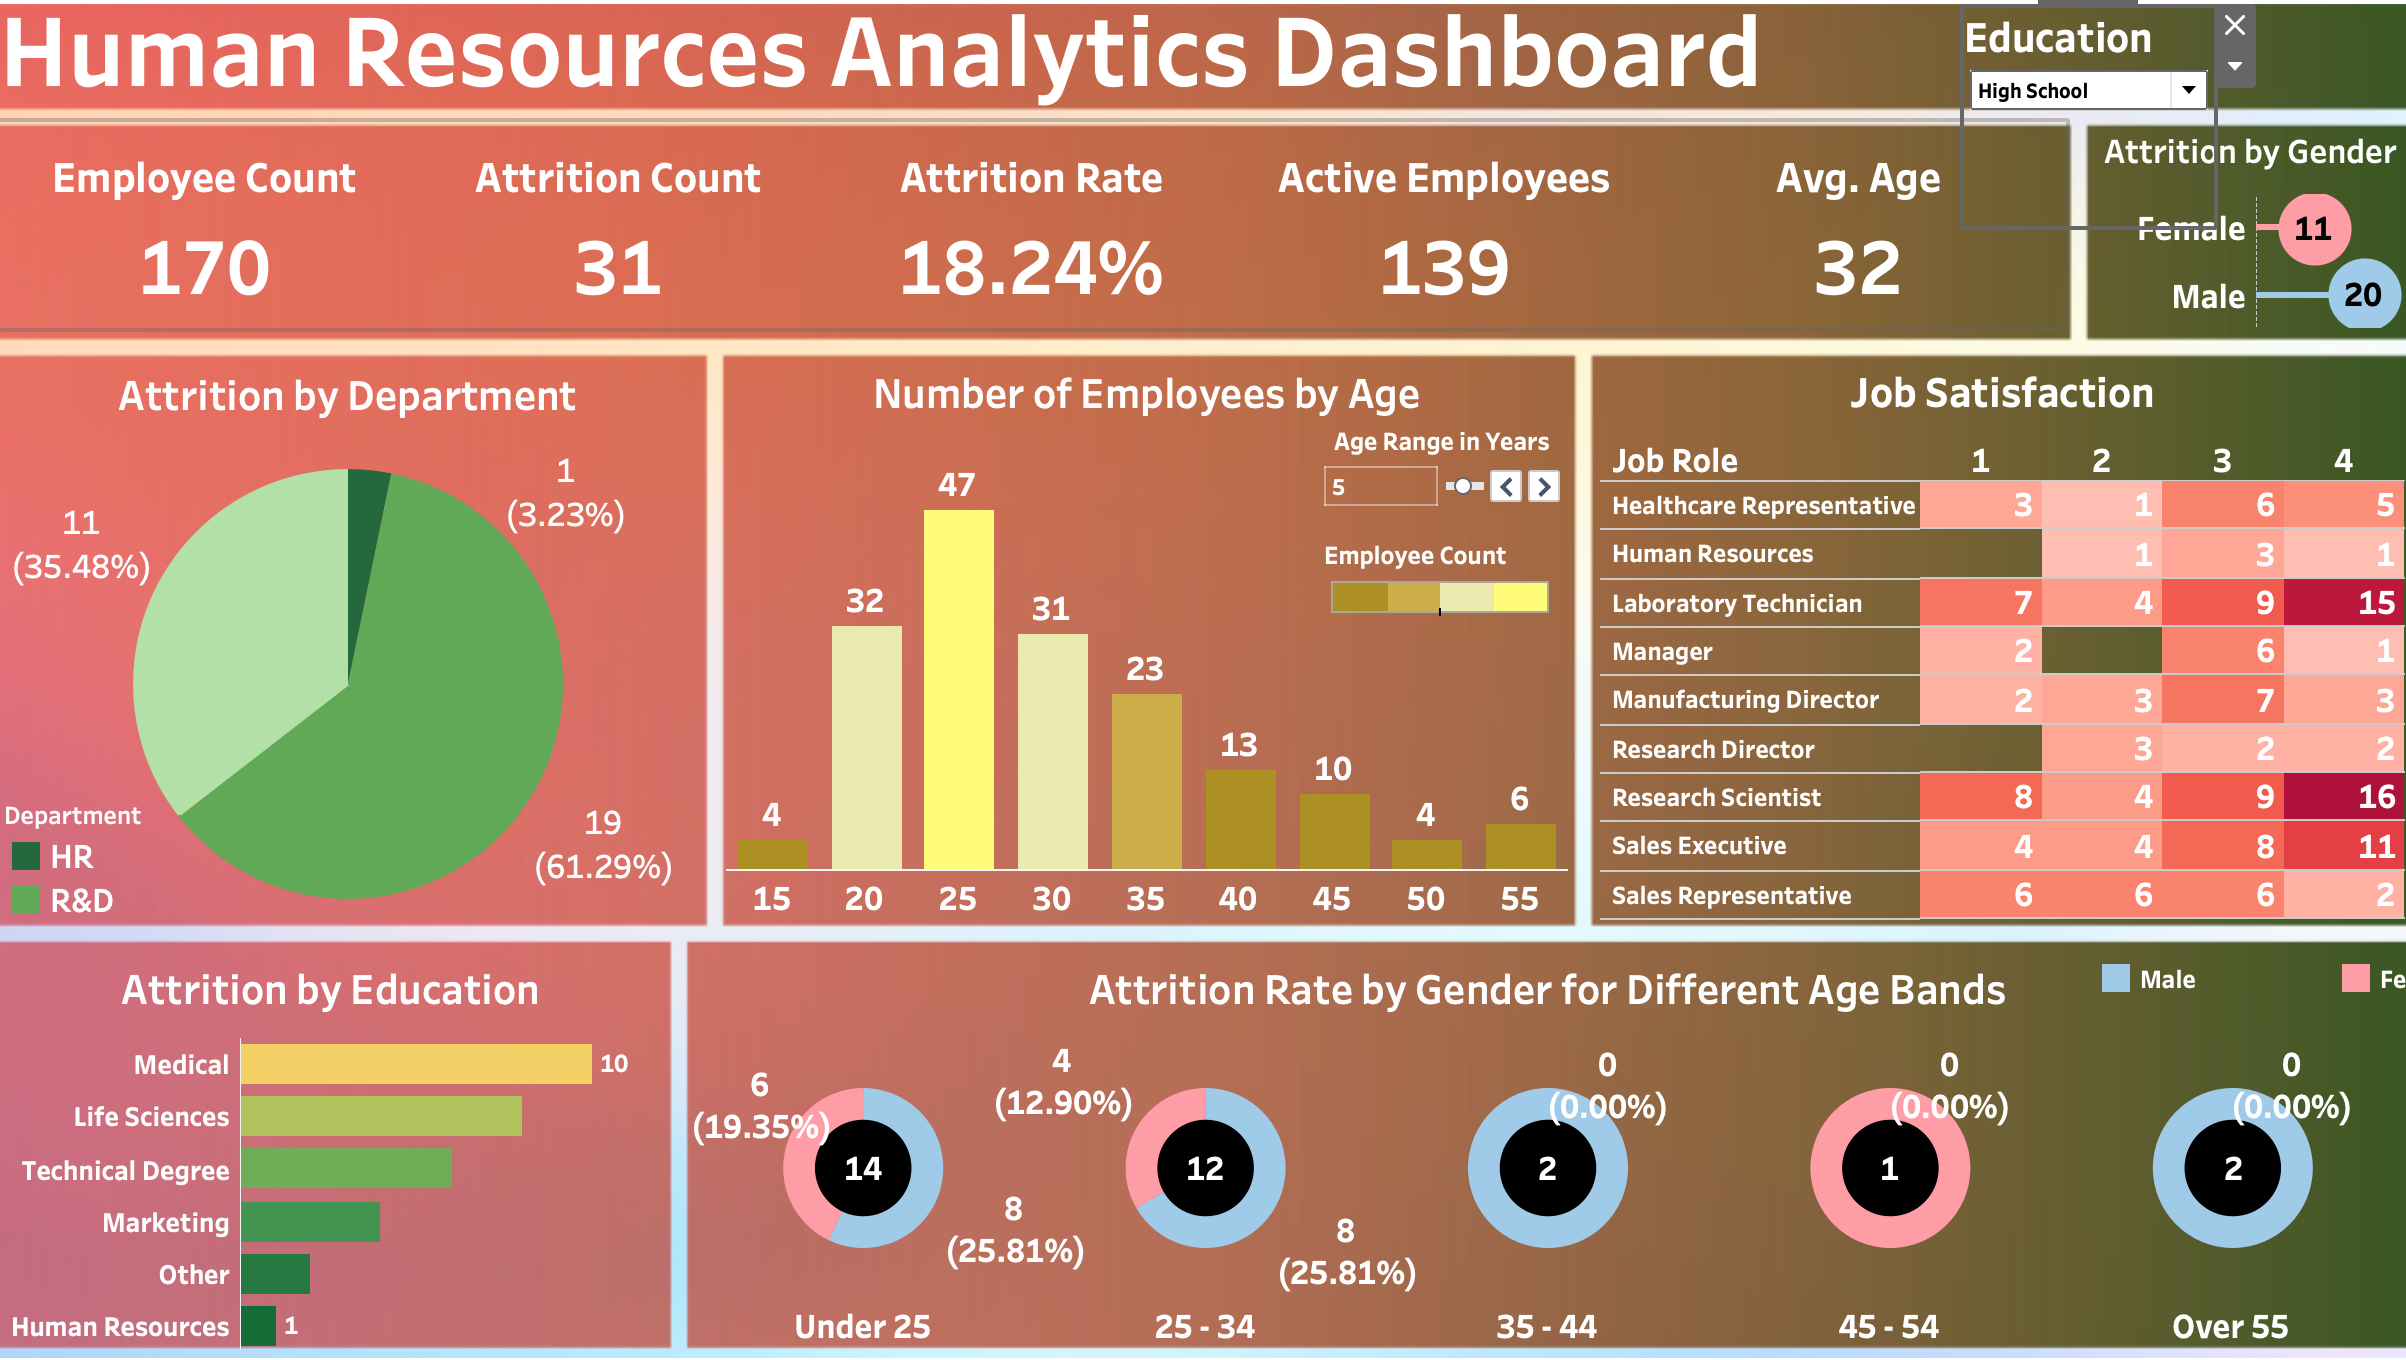

Layout of this report page (visuals, bound fields, positions):
{"tool":"tableau","page":{"name":"Human Resources Dashboard","canvas":[1580,900],"ordinal":0},"visuals":[{"type":"image","param":"/Users/chrisgaruba/Documents/PROJECTS/ORIGINAL PROJECT DATA/Data Analyst Portfol","box":[8,8,1564,884]},{"type":"text","box":[13,12,892,67]},{"type":"filter","title":"Attrition by Department","param":"[federated.16fzf2y1m25ecy1cqt7hm1aib45q].[none:Education:nk]","box":[1219,18,160,138]},{"type":"worksheet","title":"Attrition by Gender","mark":"Automatic","rows":["Gender"],"cols":["Calculation_1640436225959071744","Calculation_1640436225959071744"],"box":[1364,93,201,132]},{"type":"worksheet","title":"KPI","mark":"Automatic","box":[16,94,1329,131]},{"type":"worksheet","title":"Number of Employees by Age","mark":"Automatic","rows":["Employee Count"],"cols":["Age (bin)"],"box":[484,243,541,360]},{"type":"worksheet","title":"Job Satisfaction","mark":"Square","rows":["Job Role"],"cols":["Job Satisfaction"],"box":[1045,243,518,359]},{"type":"worksheet","title":"Attrition by Department","mark":"Pie","box":[14,244,453,360]},{"type":"parameter","param":"[Parameters].[Parameter 1]","box":[864,287,160,67]},{"type":"legend","title":"Number of Employees by Age","param":"[federated.16fzf2y1m25ecy1cqt7hm1aib45q].[sum:Employee Count:qk]","box":[868,359,150,52]},{"type":"legend","title":"Attrition by Department","param":"[federated.16fzf2y1m25ecy1cqt7hm1aib45q].[none:Department:nk]","box":[19,525,140,78]},{"type":"worksheet","title":"Attrition by Education","mark":"Automatic","rows":["Education Field"],"cols":["Calculation_1640436225959071744"],"box":[17,622,425,254]},{"type":"worksheet","title":"Attrition Rate by Gender for Different Age Bands","mark":"Pie","rows":["Calculation_1640436226023108614","Calculation_1640436226023129096"],"cols":["CF_age band"],"box":[462,622,1101,253]}]}

Visuals, with their boxes in screenshot pixels (x1, y1, x2, y2), scaled from the page's 1580x900 canvas onto the 2406x1360 screenshot:
image: (12, 12, 2394, 1348)
text: (20, 18, 1378, 119)
"Attrition by Department" filter: (1856, 27, 2100, 236)
"Attrition by Gender" worksheet: (2077, 141, 2383, 340)
"KPI" worksheet: (24, 142, 2048, 340)
"Number of Employees by Age" worksheet: (737, 367, 1561, 911)
"Job Satisfaction" worksheet (Square marks): (1591, 367, 2380, 910)
"Attrition by Department" worksheet (Pie marks): (21, 369, 711, 913)
parameter: (1316, 434, 1559, 535)
"Number of Employees by Age" legend: (1322, 542, 1550, 621)
"Attrition by Department" legend: (29, 793, 242, 911)
"Attrition by Education" worksheet: (26, 940, 673, 1324)
"Attrition Rate by Gender for Different Age Bands" worksheet (Pie marks): (704, 940, 2380, 1322)
